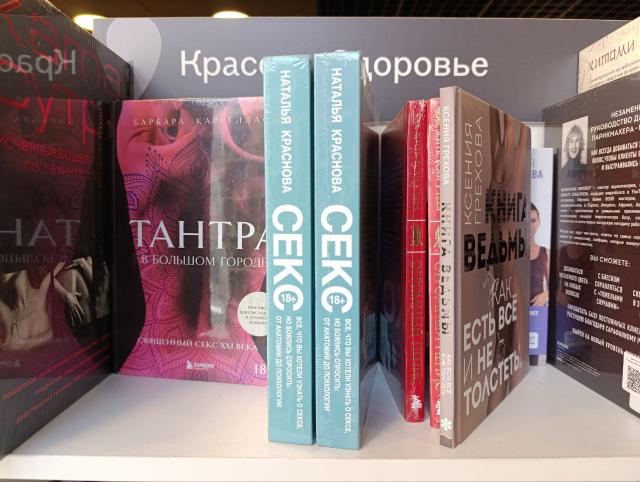book-s-spine: (262, 53, 313, 447), (314, 50, 361, 451), (405, 98, 426, 424), (439, 85, 457, 449), (427, 96, 440, 429)
